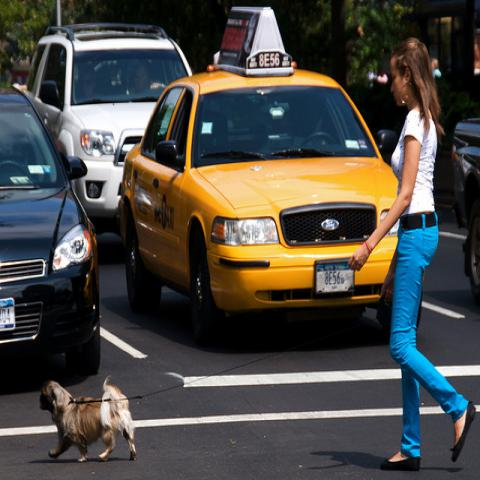car: (123, 2, 402, 351), (22, 26, 196, 227), (0, 86, 100, 374), (450, 117, 479, 300)
